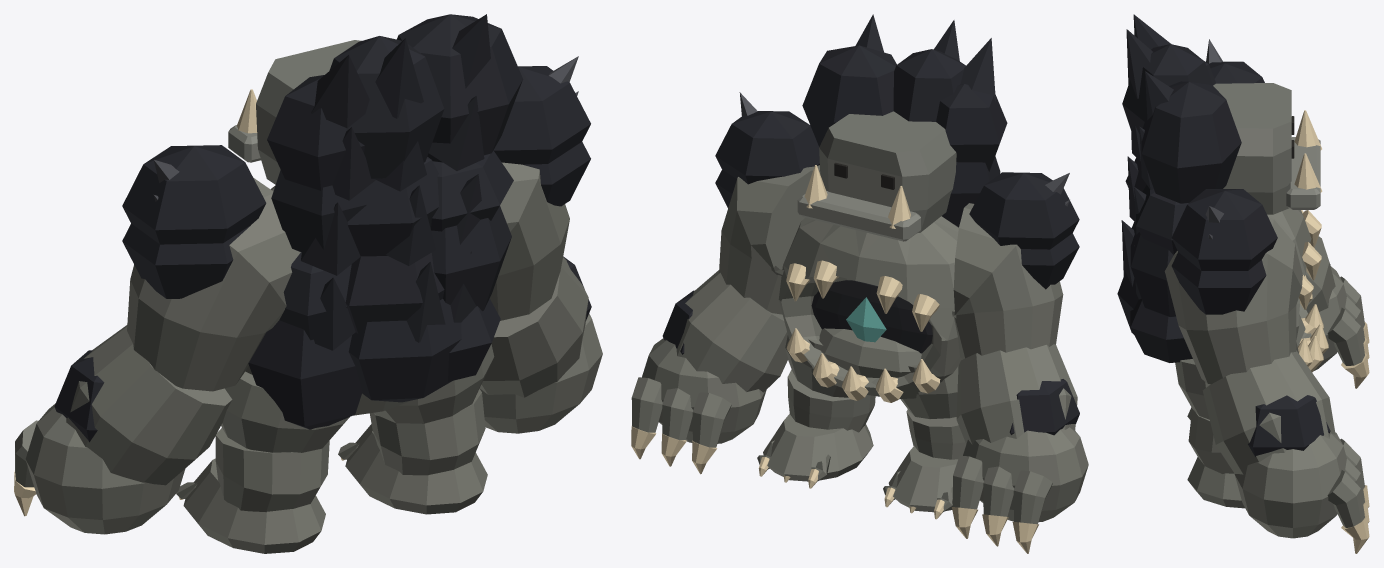
Rendered from host_49.glb.
3 views of the same model, side by side, from view 1: azimuth 30°, elevation 25°; view 2: azimuth 150°, elevation 25°; view 3: azimuth 270°, elevation 25° (orthographic). The views are drawn at different scales.
Parts seen in each view (by area): view 1: V6 source anatomical upper arm L, V6 source anatomical forearm L, V6 Greatmaw contacting jagged dorsal obsidian crown spike.00 (×8), V6 Greatmaw source contacting shoulder obsidian mass, V6 source anatomical palm L, V6 Greatmaw fitted irregular broad obsidian back armor.011, V6 Greatmaw fitted irregular broad obsidian back armor, V6 source anatomical forearm R, V6 source anatomical upper arm R, V6 Greatmaw fitted irregular broad obsidian back armor.010, V6 Greatmaw fitted irregular broad obsidian back armor.001, V6 source anatomical shin L (+23 smaller); view 2: V6 source anatomical thorax, Observed face, V6 source anatomical upper arm L, V6 source anatomical forearm R, V6 source anatomical upper arm R, V6 source anatomical forearm L, V6 Greatmaw source contacting shoulder obsidian mass, V6 Greatmaw fitted irregular broad obsidian back armor.011, V6 source anatomical palm L, V6 Greatmaw source contacting shoulder obsidian mass.002, V6 source anatomical bare foot R, V6 source anatomical palm R (+31 smaller); view 3: V6 source anatomical upper arm R, V6 Greatmaw fitted irregular broad obsidian back armor.011, V6 source anatomical palm R, V6 source anatomical forearm R, Observed face, V6 Greatmaw source contacting shoulder obsidian mass.002, V6 Greatmaw source contacting shoulder obsidian mass.003, V6 Greatmaw source contacting forearm obsidian plate.001, V6 Greatmaw fitted irregular broad obsidian back armor.010, V6 Greatmaw fitted irregular broad obsidian back armor.005, V6 Greatmaw fitted irregular broad obsidian back armor.002, V6 Greatmaw fitted irregular broad obsidian back armor.008 (+23 smaller).
Part boxes in pixels (left/top/right/bottom): V6 source anatomical upper arm L: left=127, top=178, right=300, bottom=391; V6 source anatomical forearm L: left=66, top=325, right=232, bottom=485; V6 Greatmaw contacting jagged dorsal obsidian crown spike.00 (×8): left=301, top=55, right=484, bottom=342; V6 Greatmaw source contacting shoulder obsidian mass: left=122, top=145, right=266, bottom=244; V6 source anatomical palm L: left=25, top=403, right=185, bottom=534; V6 Greatmaw fitted irregular broad obsidian back armor.011: left=397, top=14, right=522, bottom=162; V6 Greatmaw fitted irregular broad obsidian back armor: left=248, top=320, right=362, bottom=429; V6 source anatomical forearm R: left=480, top=257, right=588, bottom=397; V6 source anatomical upper arm R: left=490, top=162, right=569, bottom=320; V6 Greatmaw fitted irregular broad obsidian back armor.010: left=329, top=36, right=444, bottom=179; V6 Greatmaw fitted irregular broad obsidian back armor.001: left=348, top=299, right=461, bottom=402; V6 source anatomical shin L: left=215, top=428, right=329, bottom=511; V6 source anatomical thorax: left=778, top=216, right=962, bottom=399; Observed face: left=819, top=111, right=956, bottom=233; V6 source anatomical upper arm L: left=952, top=203, right=1063, bottom=359; V6 source anatomical forearm R: left=676, top=270, right=788, bottom=392; V6 source anatomical upper arm R: left=719, top=165, right=820, bottom=314; V6 source anatomical forearm L: left=956, top=344, right=1077, bottom=444; V6 Greatmaw source contacting shoulder obsidian mass: left=969, top=172, right=1079, bottom=249; V6 Greatmaw fitted irregular broad obsidian back armor.011: left=802, top=45, right=896, bottom=146; V6 source anatomical palm L: left=963, top=427, right=1088, bottom=521; V6 Greatmaw source contacting shoulder obsidian mass.002: left=715, top=111, right=819, bottom=184; V6 source anatomical bare foot R: left=763, top=414, right=873, bottom=481; V6 source anatomical palm R: left=642, top=338, right=766, bottom=443; V6 source anatomical upper arm R: left=1164, top=217, right=1302, bottom=384; V6 Greatmaw fitted irregular broad obsidian back armor.011: left=1141, top=81, right=1241, bottom=203; V6 source anatomical palm R: left=1234, top=432, right=1346, bottom=538; V6 source anatomical forearm R: left=1202, top=350, right=1335, bottom=474; Observed face: left=1213, top=83, right=1291, bottom=214; V6 Greatmaw source contacting shoulder obsidian mass.002: left=1171, top=189, right=1277, bottom=270; V6 Greatmaw source contacting shoulder obsidian mass.003: left=1171, top=252, right=1266, bottom=314; V6 Greatmaw source contacting forearm obsidian plate.001: left=1248, top=395, right=1330, bottom=456; V6 Greatmaw fitted irregular broad obsidian back armor.010: left=1122, top=44, right=1212, bottom=133; V6 Greatmaw fitted irregular broad obsidian back armor.005: left=1130, top=230, right=1175, bottom=316; V6 Greatmaw fitted irregular broad obsidian back armor.002: left=1130, top=299, right=1192, bottom=362; V6 Greatmaw fitted irregular broad obsidian back armor.008: left=1136, top=185, right=1188, bottom=255.
Bounding box in the file's own units: 2.01 × 1.81 × 0.9721.
